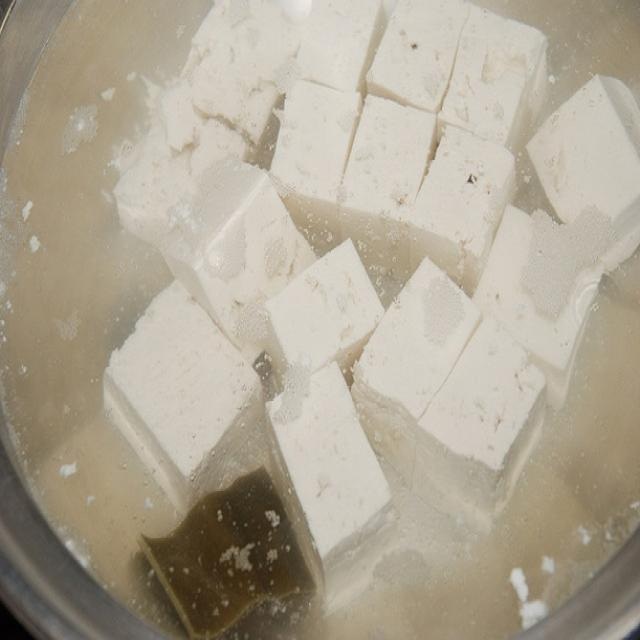豆腐料理: (23, 8, 630, 615)
